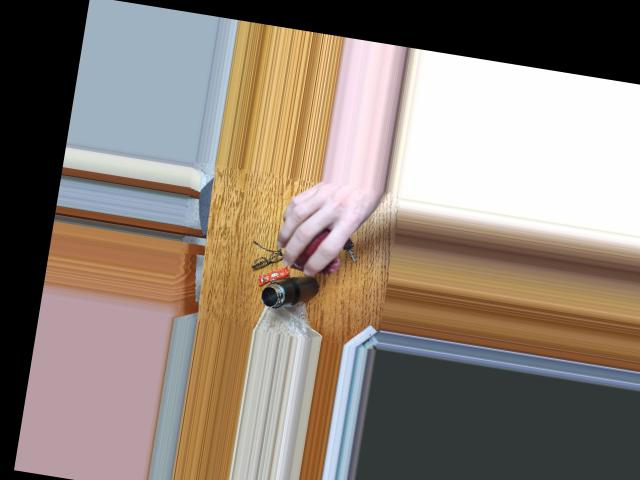onion: (282, 213, 346, 266)
